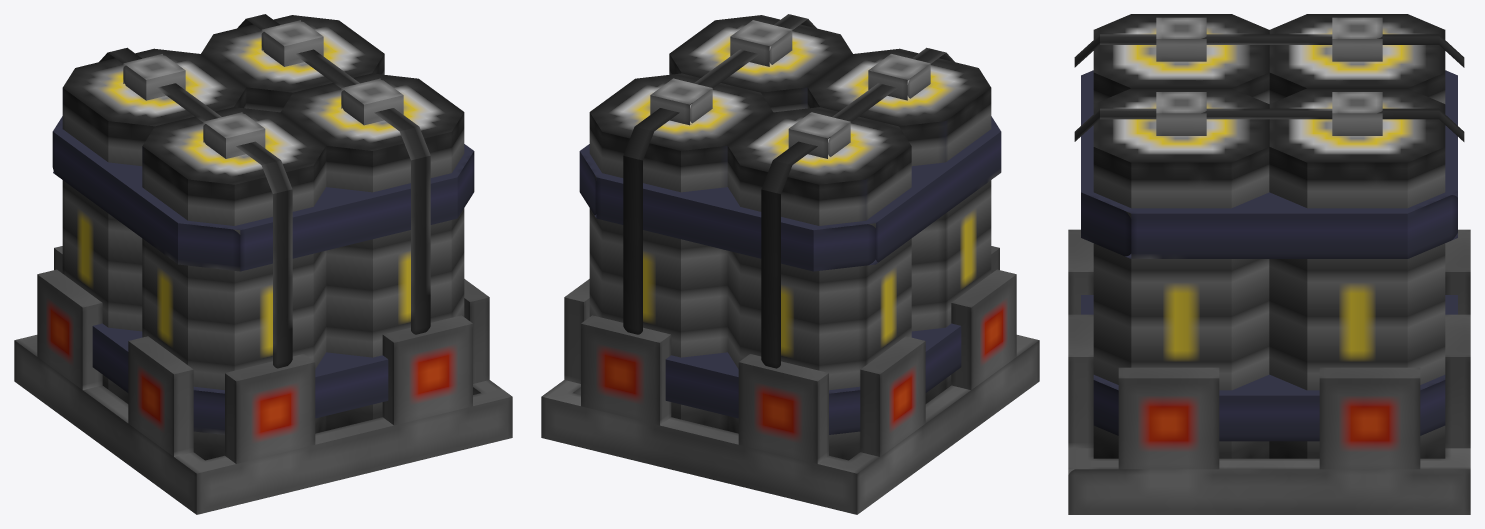
The model's file is socket_battery_lead.obj.
3 renders of one model, left to right at view 1: azimuth 30°, elevation 25°; view 2: azimuth 150°, elevation 25°; view 3: azimuth 270°, elevation 25°, orthographic. The views are drawn at different scales.
Bounding box in the file's own units: 2 × 2 × 2.
